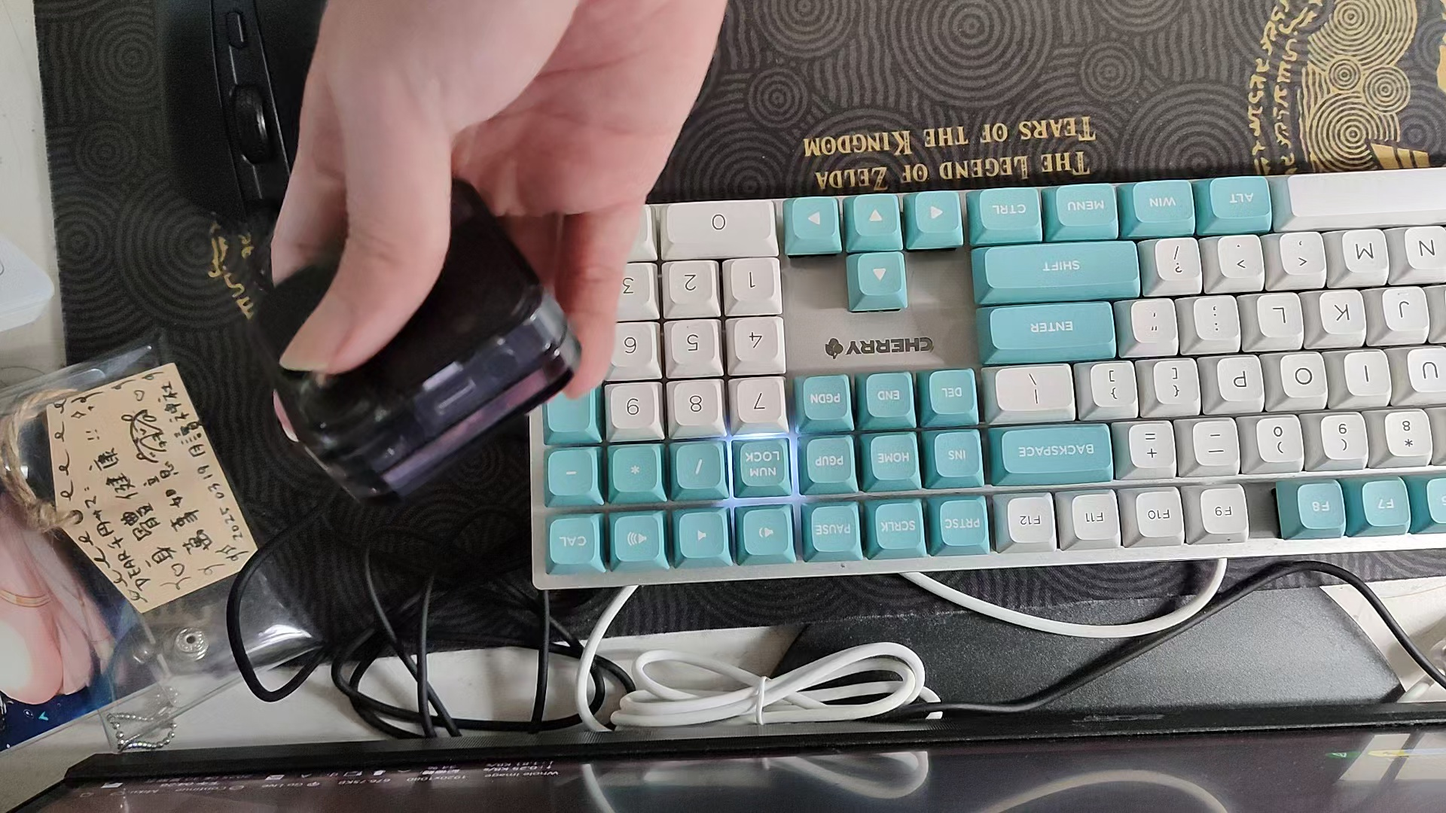Wireless_earphone: (250, 176, 586, 504)
